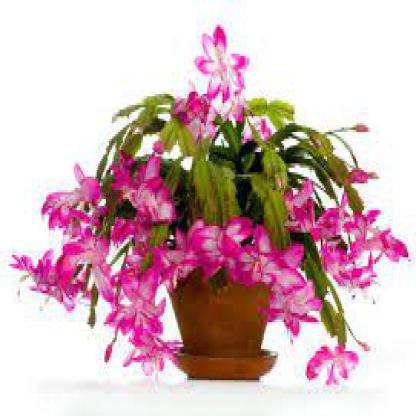Aglonema: (60, 32, 375, 327)
